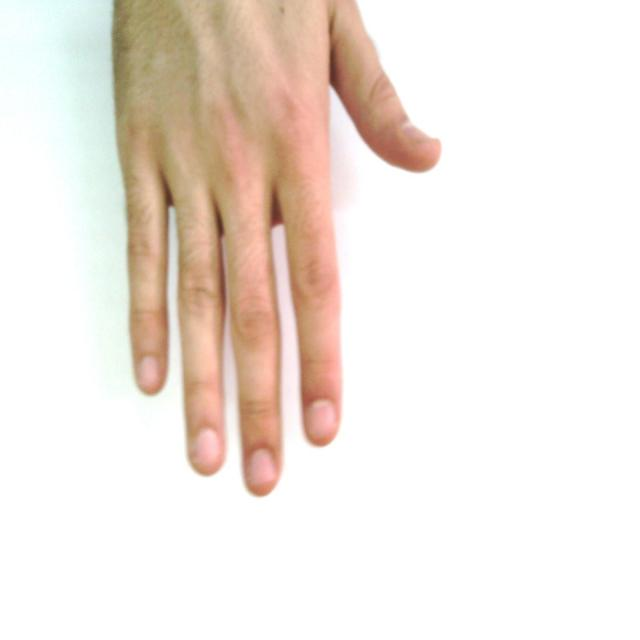others: (111, 1, 448, 514)
